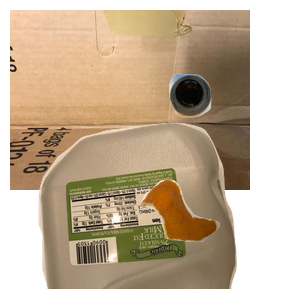cardboard: (10, 10, 250, 190)
glass: (166, 71, 300, 181)
plastic: (36, 120, 265, 300)
trash: (137, 177, 300, 300)
